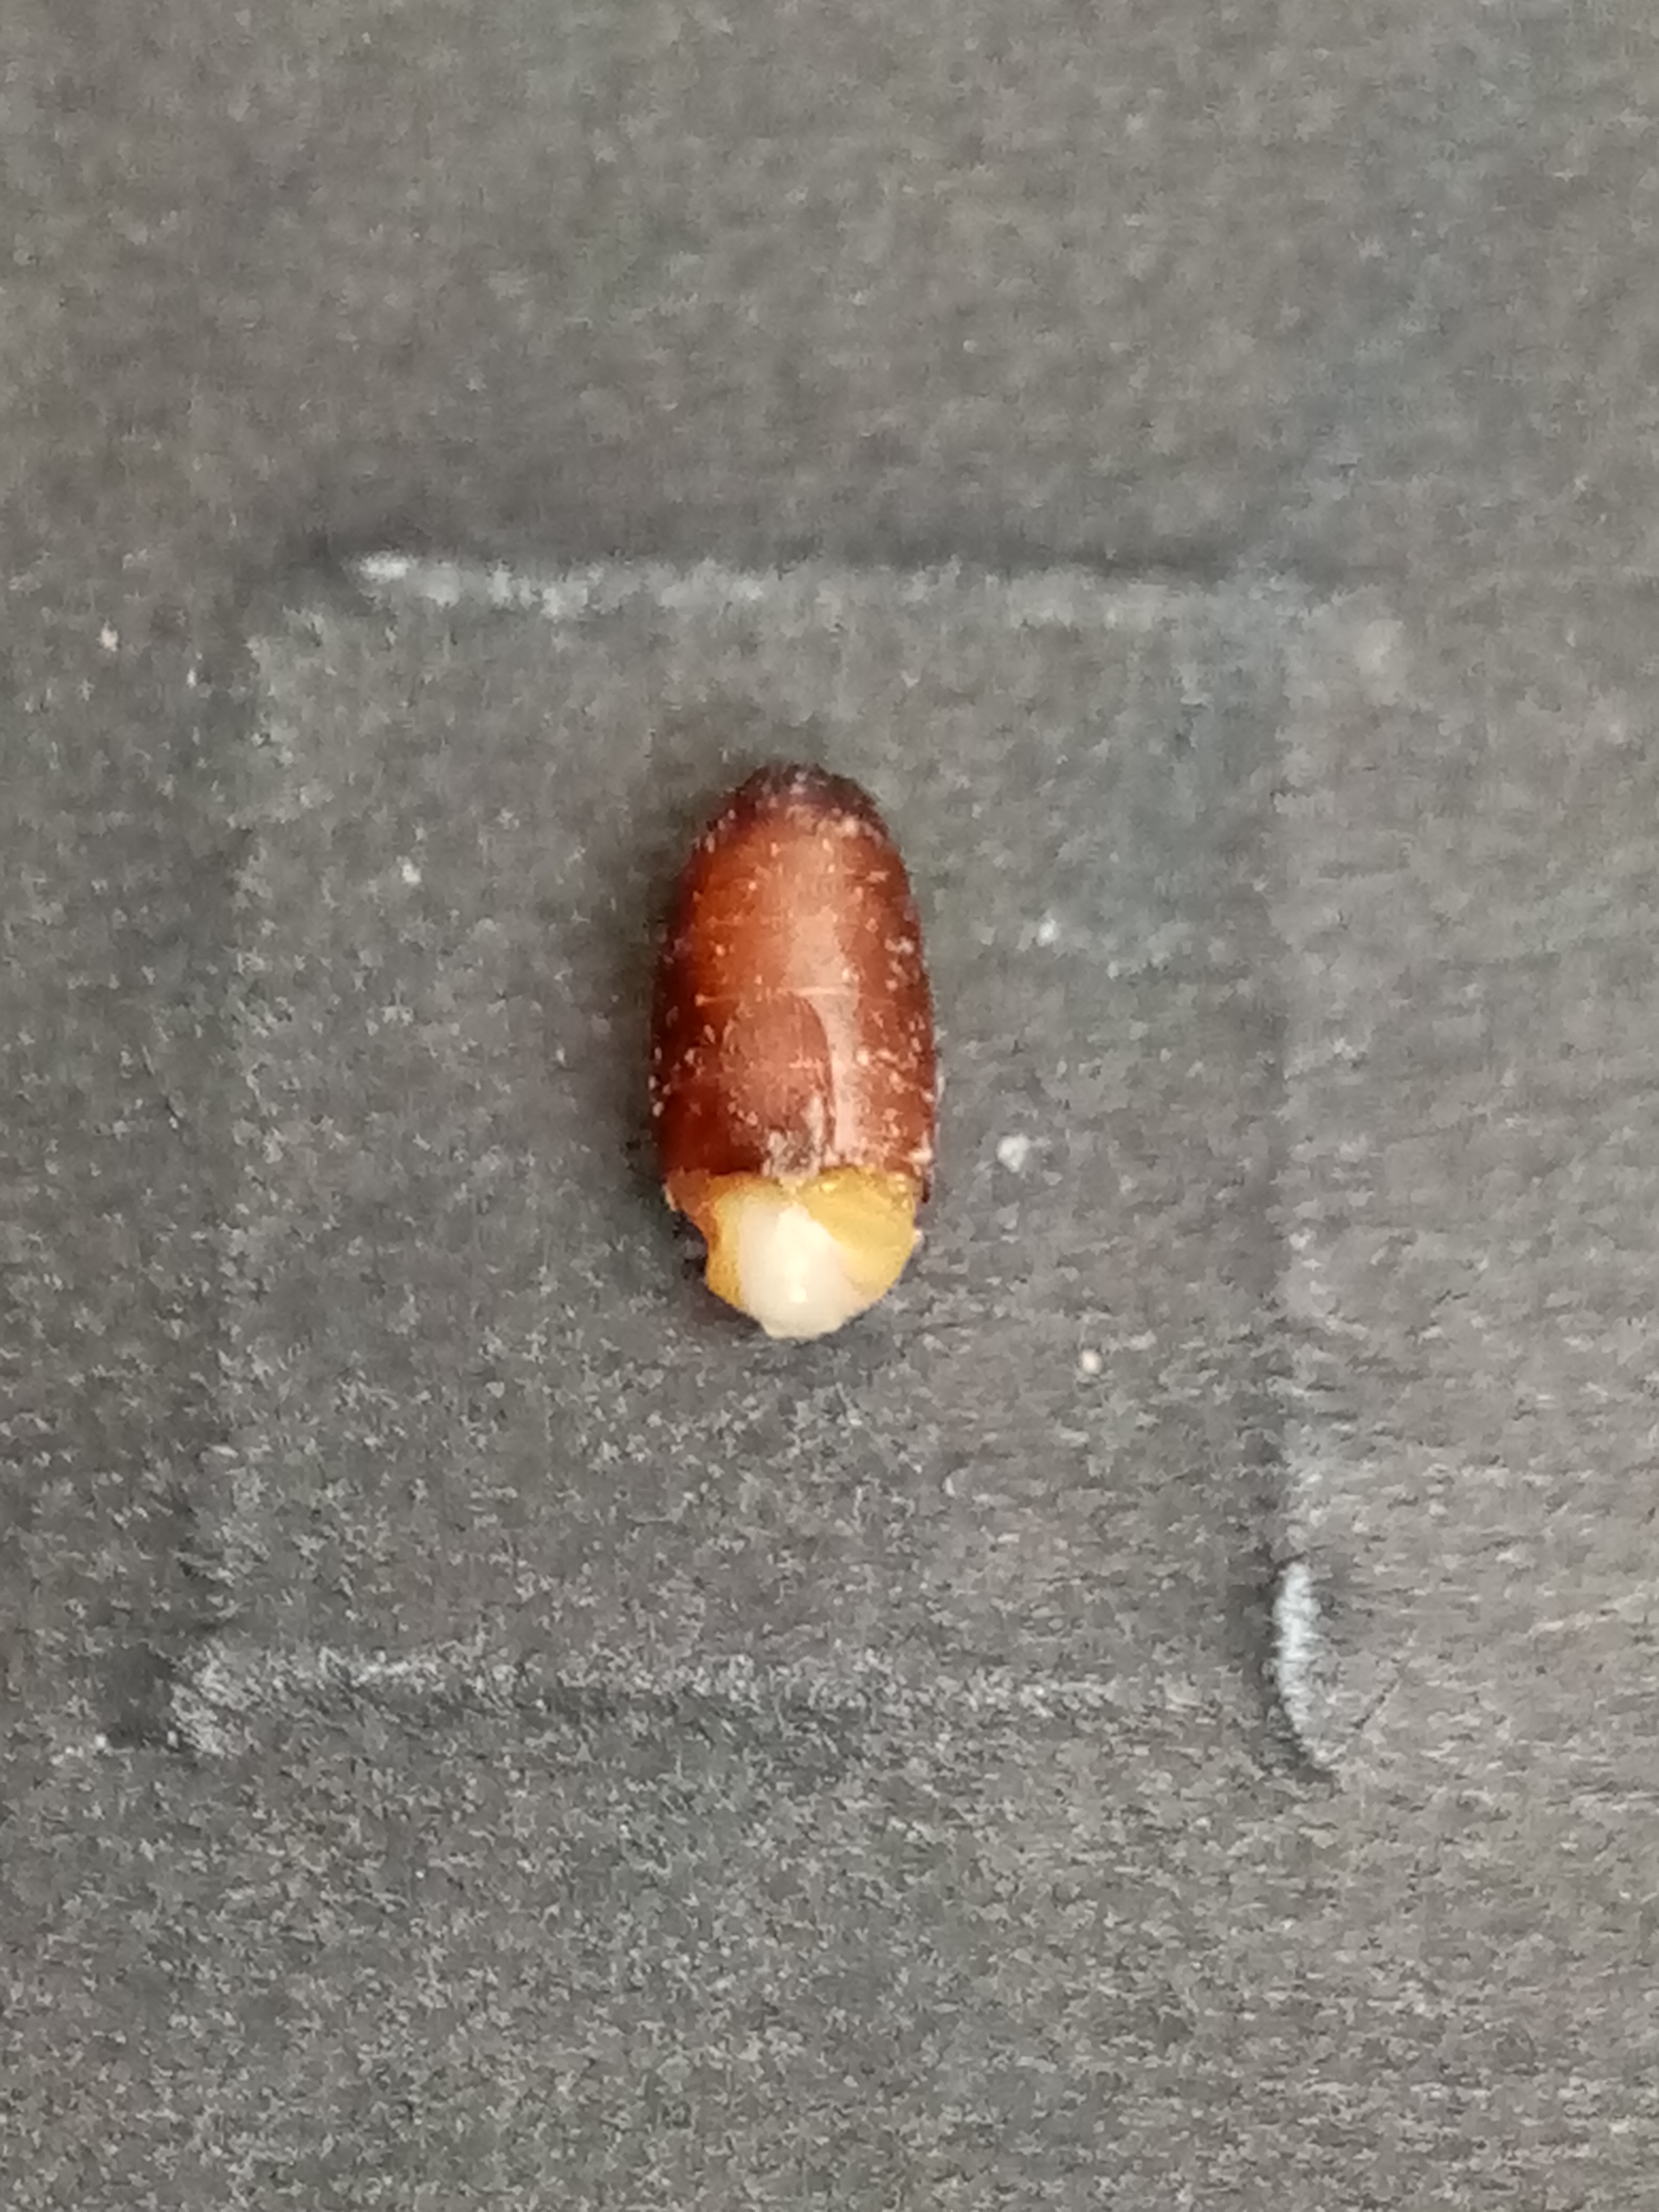pupa: (669, 1179, 931, 1346)
